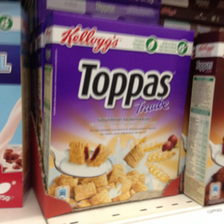cereal: (40, 11, 196, 217)
